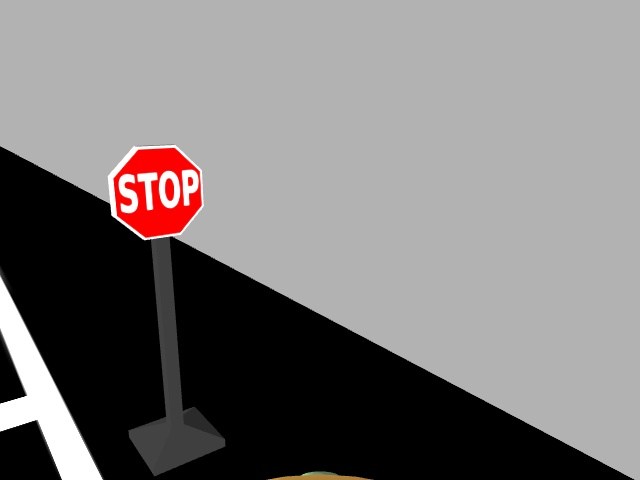Stop: (101, 141, 210, 240)
